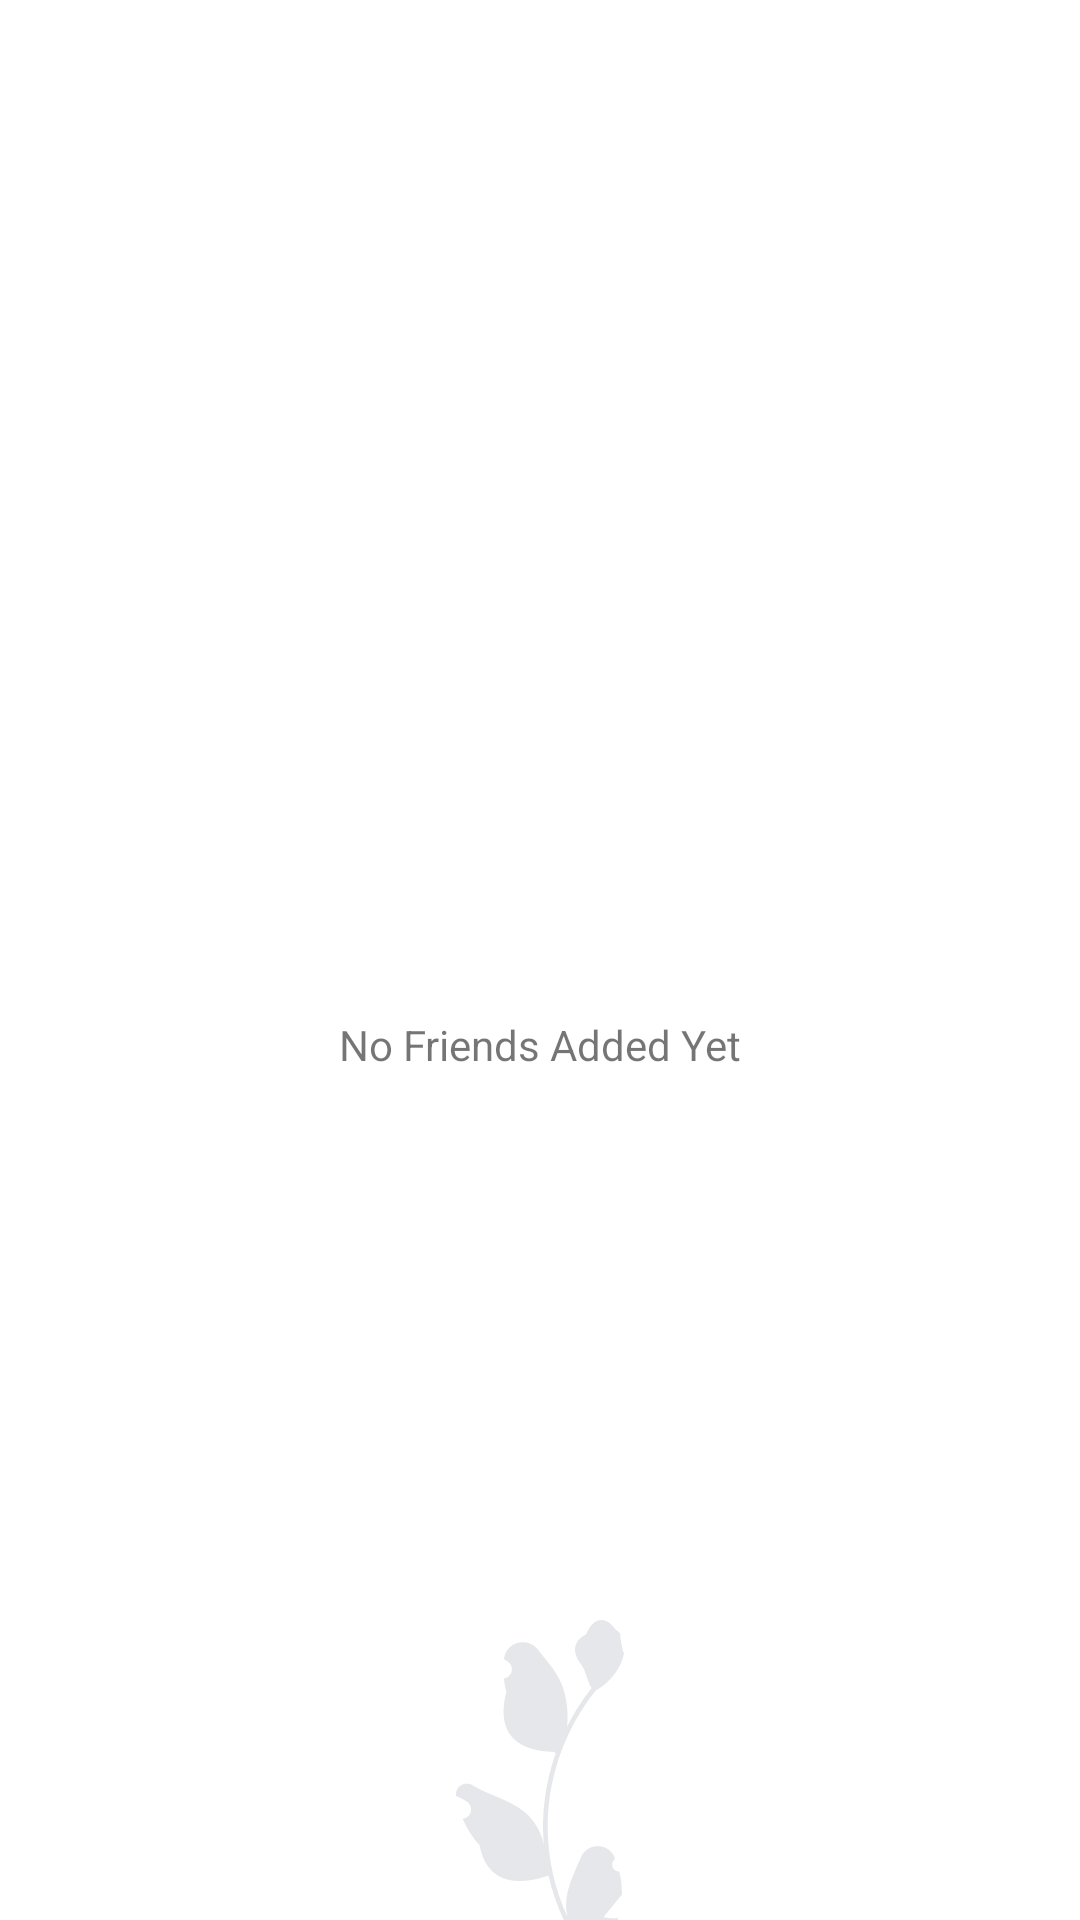

Named icons in this screenshot (1080×1920) and their centers, point (x, y):
plant: point (539, 1770)
